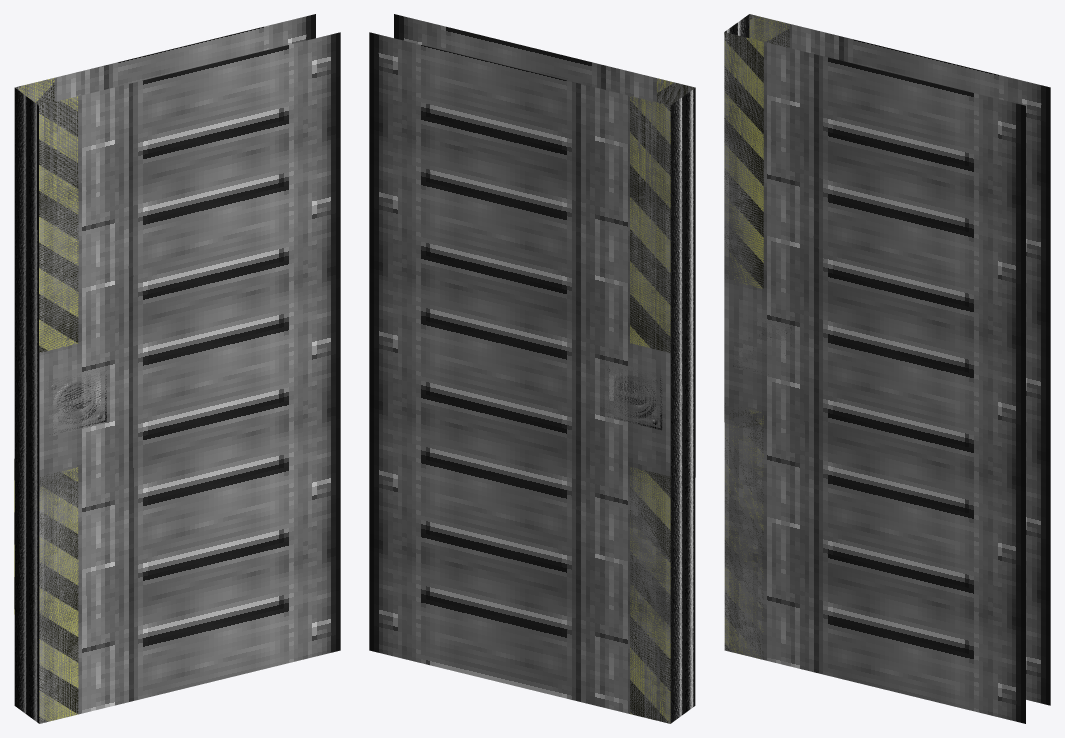
The model's file is primary_167.glb.
The picture shows the model from 3 angles, left to right: view 1: azimuth 30°, elevation 25°; view 2: azimuth 150°, elevation 25°; view 3: azimuth 330°, elevation 25°; orthographic projection.
Visible parts, largest first — view 1: Object; view 2: Object; view 3: Object.
Boxes of the visible parts, x1=… form: Object: x1=14, y1=14, x2=340, y2=723; Object: x1=369, y1=14, x2=695, y2=723; Object: x1=724, y1=14, x2=1050, y2=723.
Size of the model in its own units: 1.17 by 2.3 by 0.1675.
5 materials, 5 textured.
